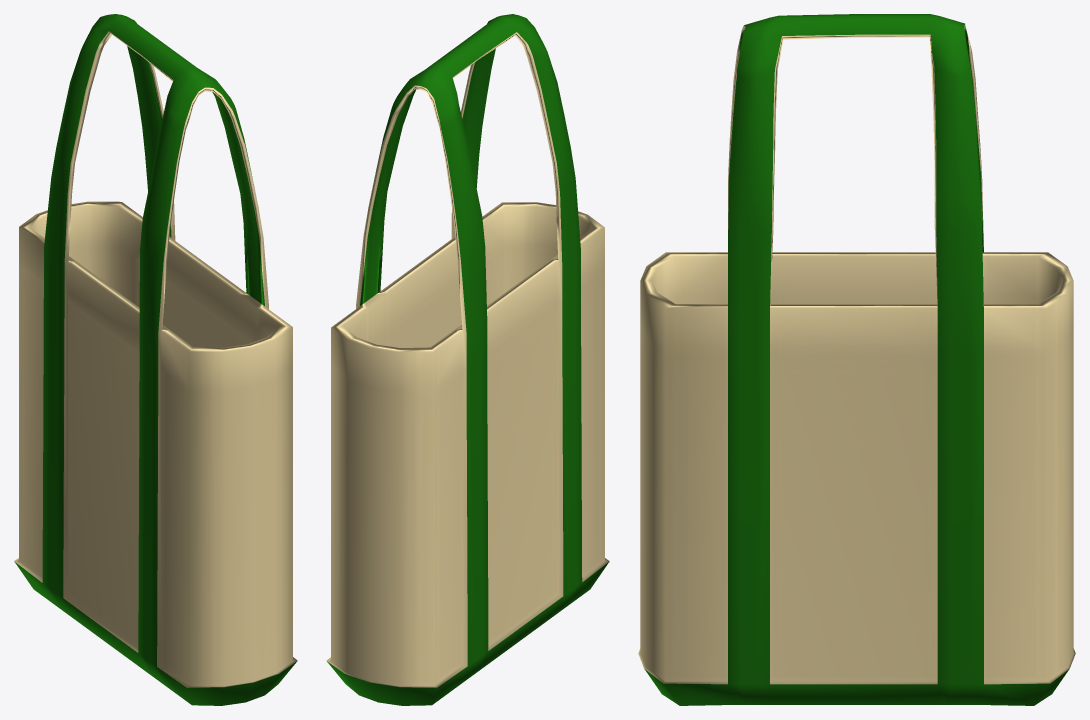
Rendered from totobag-green.fbx.
The picture shows the model from 3 angles, left to right: view 1: azimuth 30°, elevation 25°; view 2: azimuth 150°, elevation 25°; view 3: azimuth 270°, elevation 25°; orthographic projection. The views are drawn at different scales.
Parts seen in each view (by area): view 1: totobag_green; view 2: totobag_green; view 3: totobag_green.
Boxes of the visible parts, x1,y1,x2,y2 form: totobag_green: (14, 14, 297, 705); totobag_green: (326, 14, 609, 705); totobag_green: (638, 14, 1075, 705).
Bounding box in the file's own units: 2.21 × 11.25 × 6.61.
Materials: 1 (1 with a texture image).
